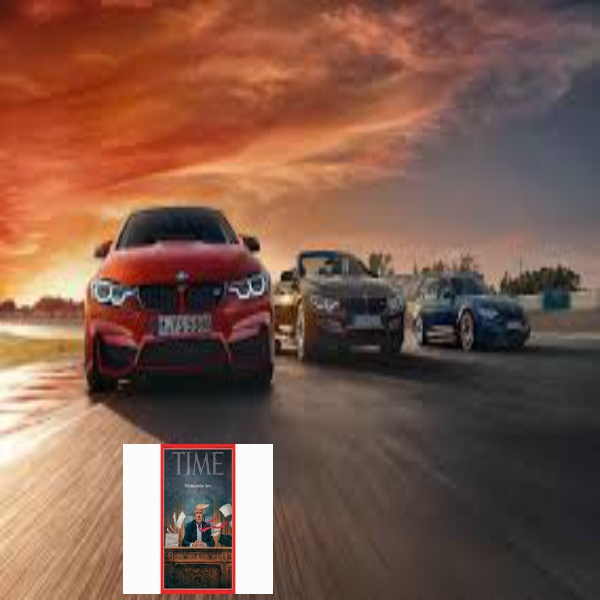time_cover: (148, 438, 237, 591)
